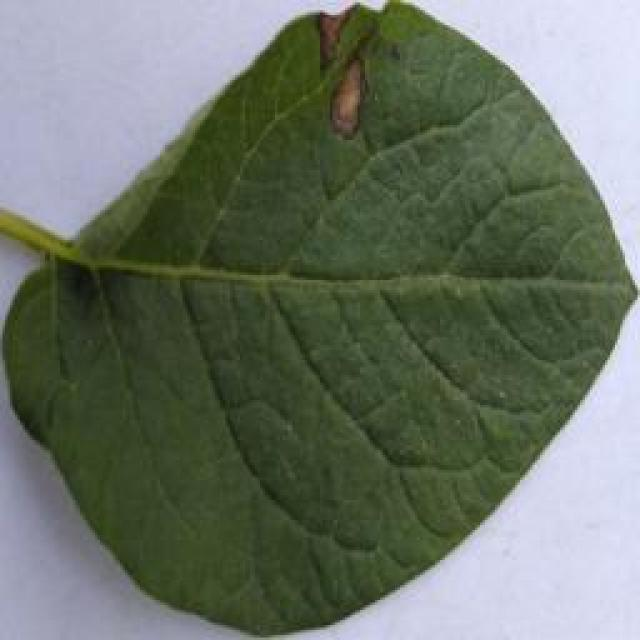Potato_Late_Blight: (2, 5, 627, 626)
